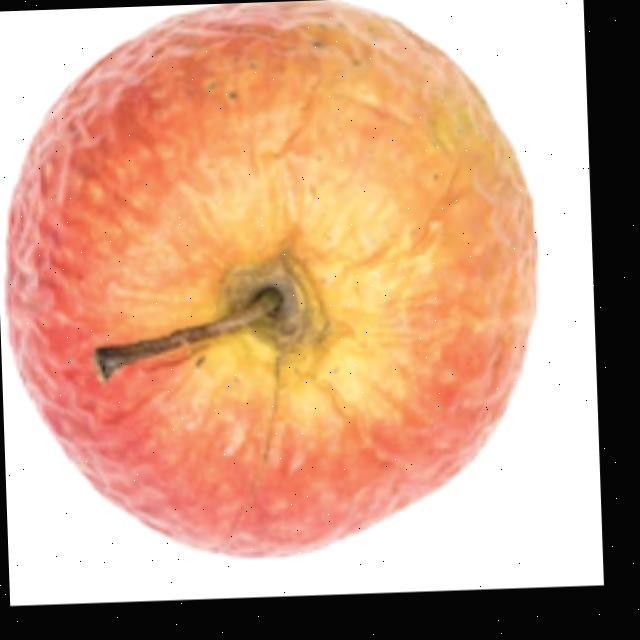overripe: (0, 0, 554, 575)
